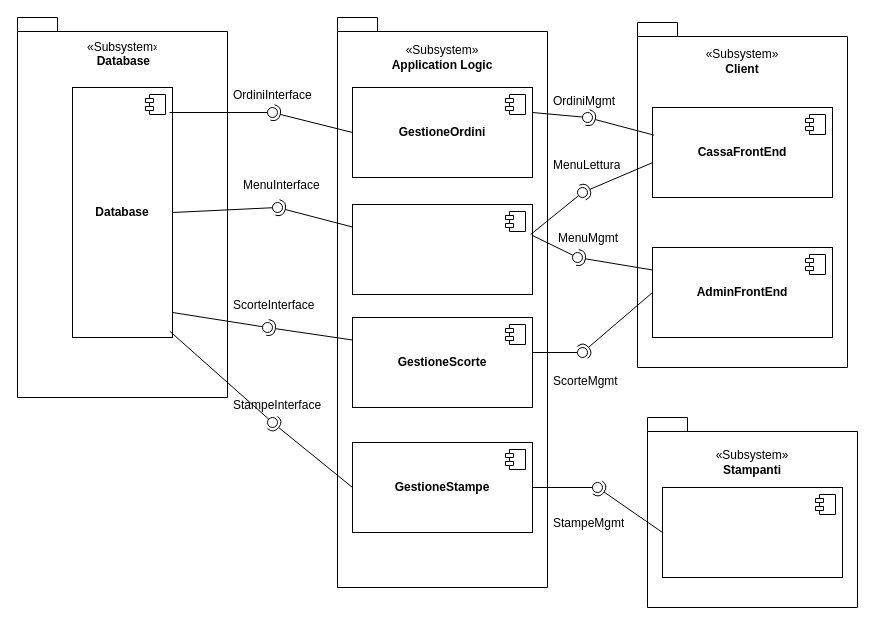
Some shapes in this 875 by 625 pixel diagram are drawn without their labels. The box of each missing label's shape, as (x1, y1, x2, y2) in pixels:
GestioneMenu: (352, 204, 532, 294)
Stampanti: (662, 486, 842, 578)
